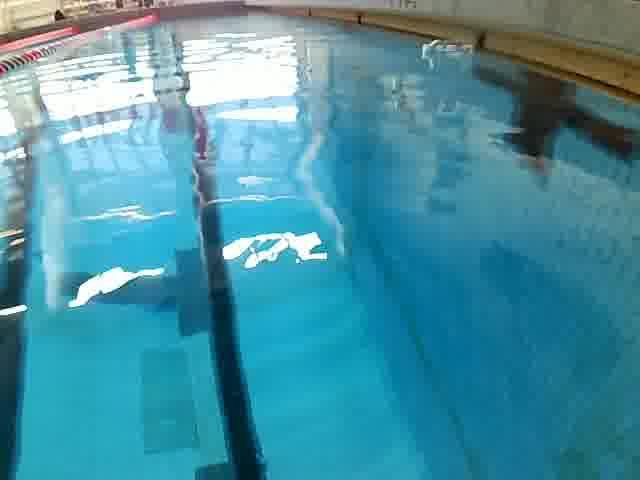Bottle: (412, 33, 483, 67)
